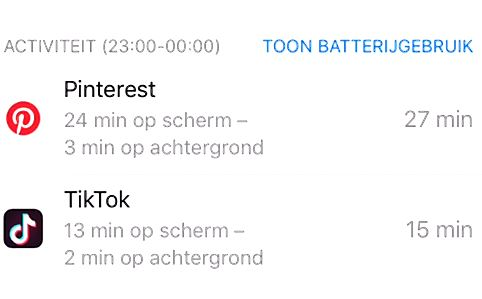activity: (3, 35, 225, 59)
app: (1, 183, 474, 282), (1, 75, 475, 167)
